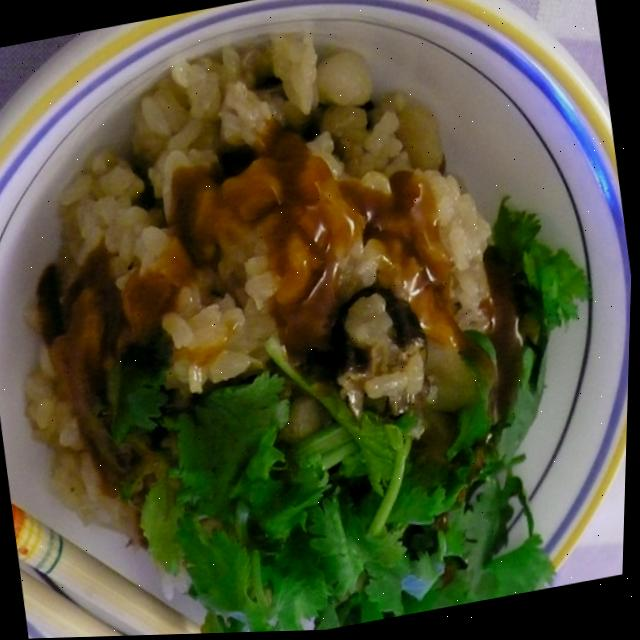米饭主食: (0, 0, 634, 640)
